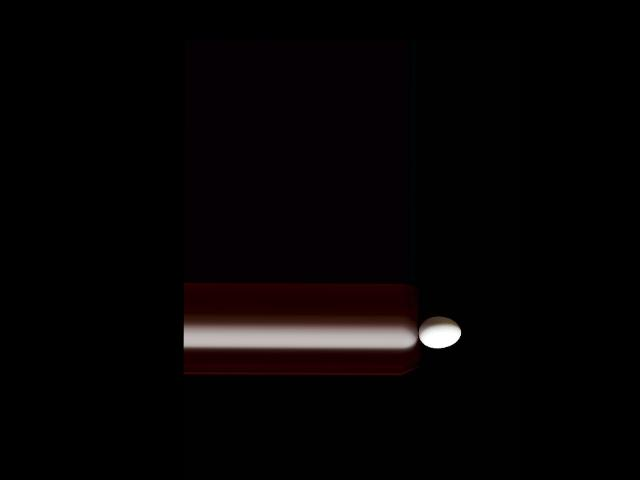egg: (417, 317, 460, 348)
